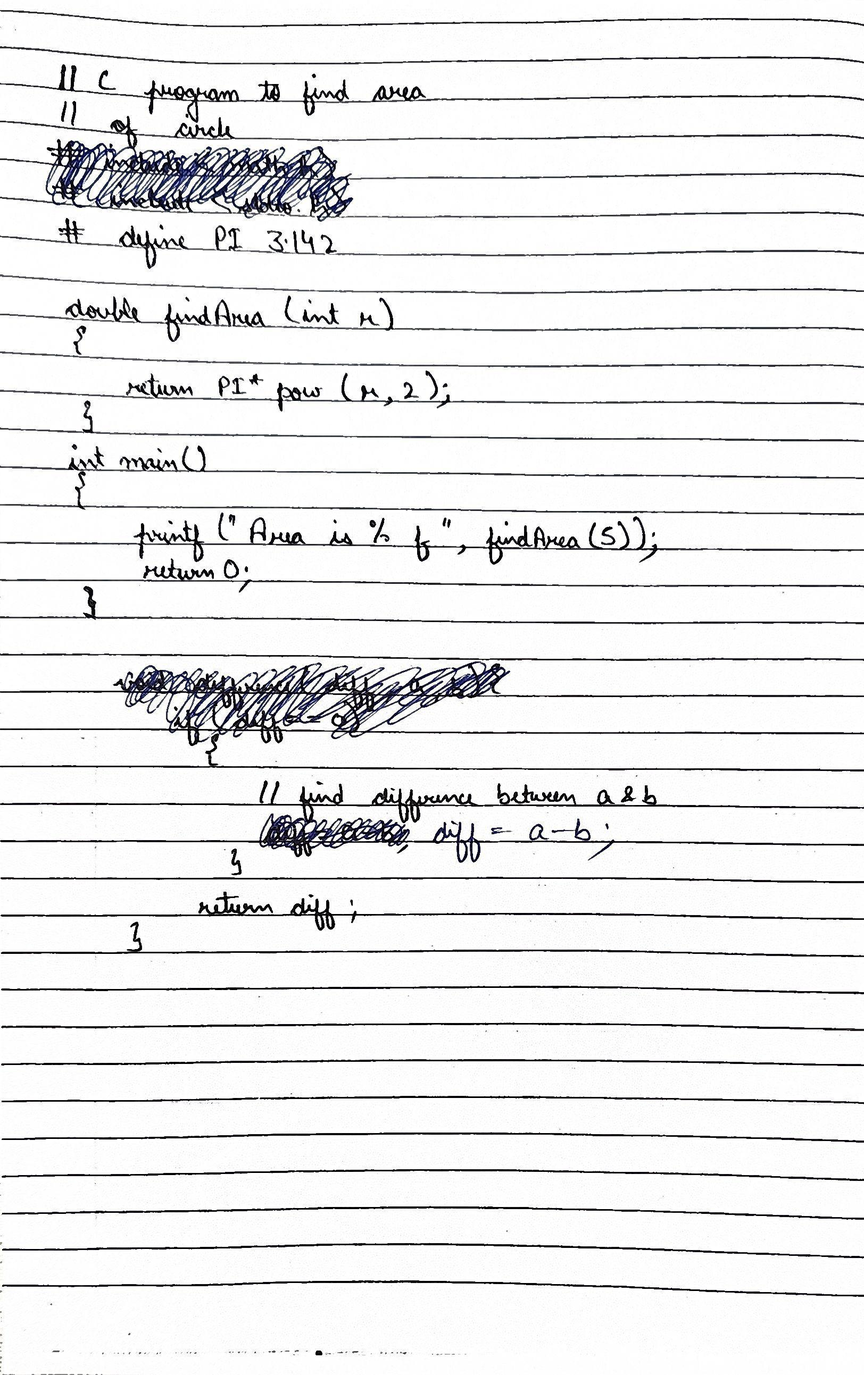cuttings: (111, 660, 512, 747), (42, 137, 357, 223), (259, 811, 411, 859)
